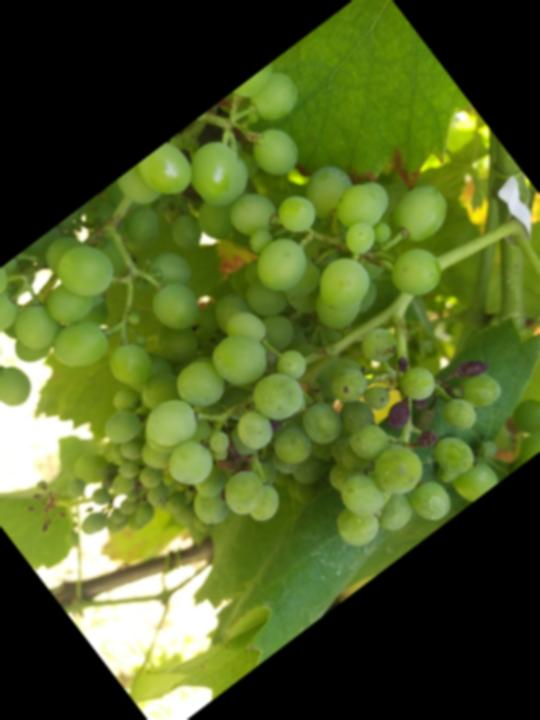grape: (37, 94, 540, 655)
